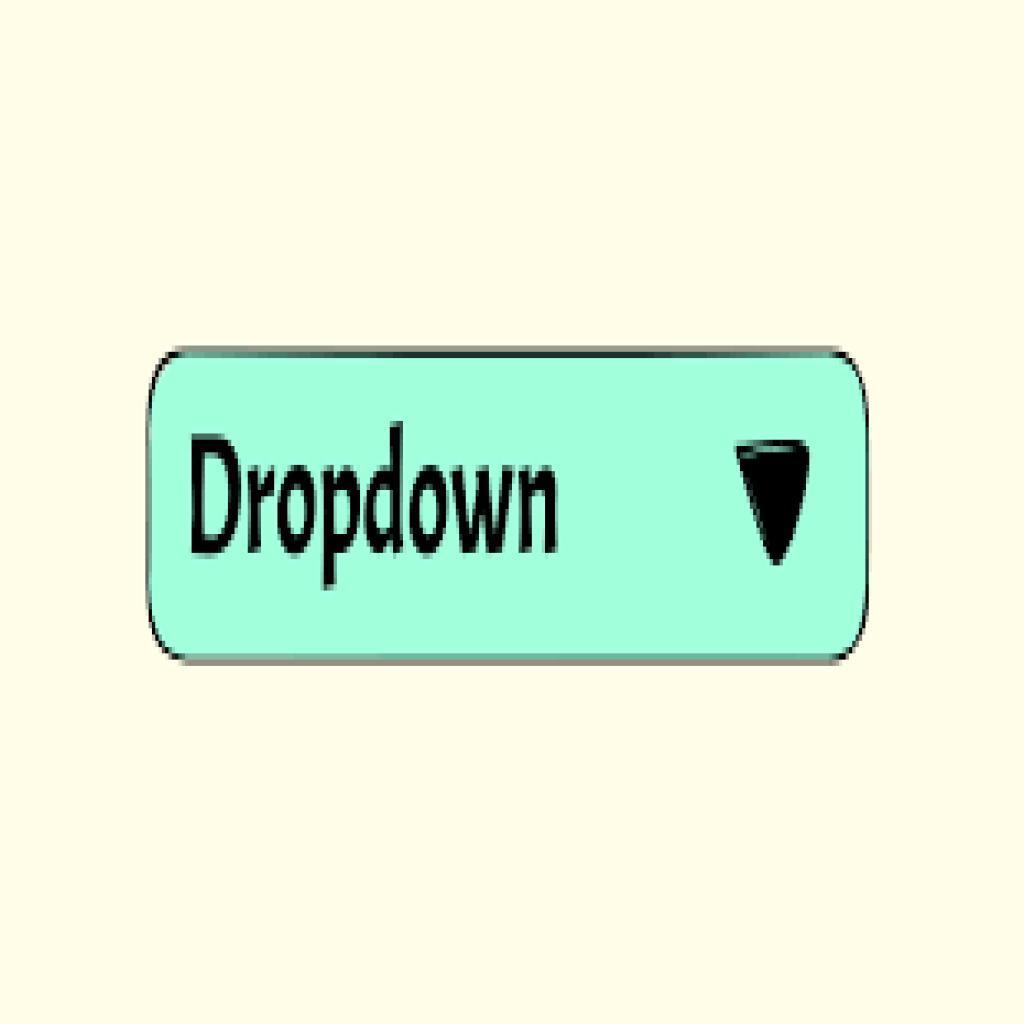dropdown: (151, 350, 868, 660)
